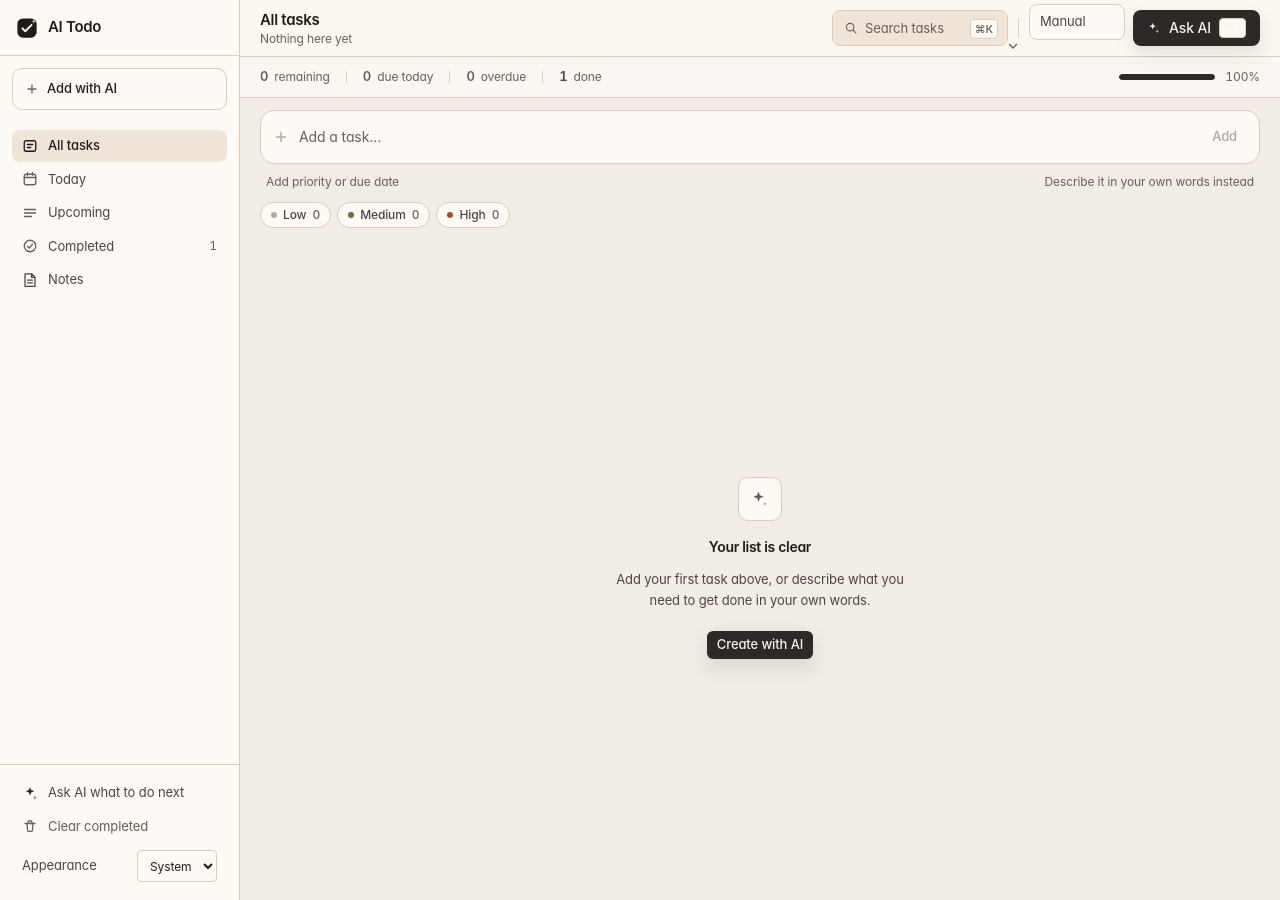
Test: complete a task › shows completed tasks in the Completed view
Expected: the text "Finished earlier" is not shown
Click the button "Completed 1".
click(120, 246)  # box [12,230,227,262]
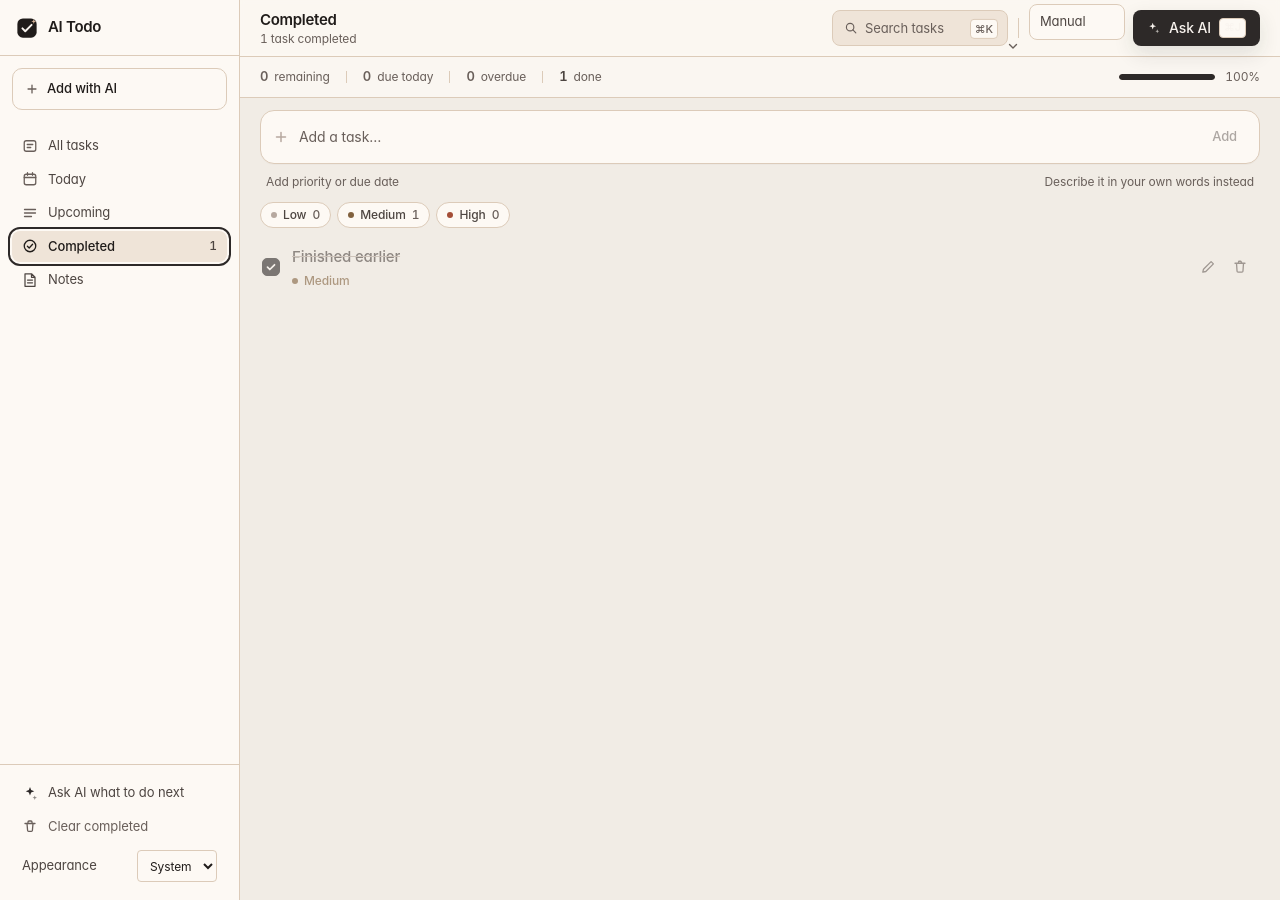
Now the text "Finished earlier" is shown, box [292,246,400,266]
